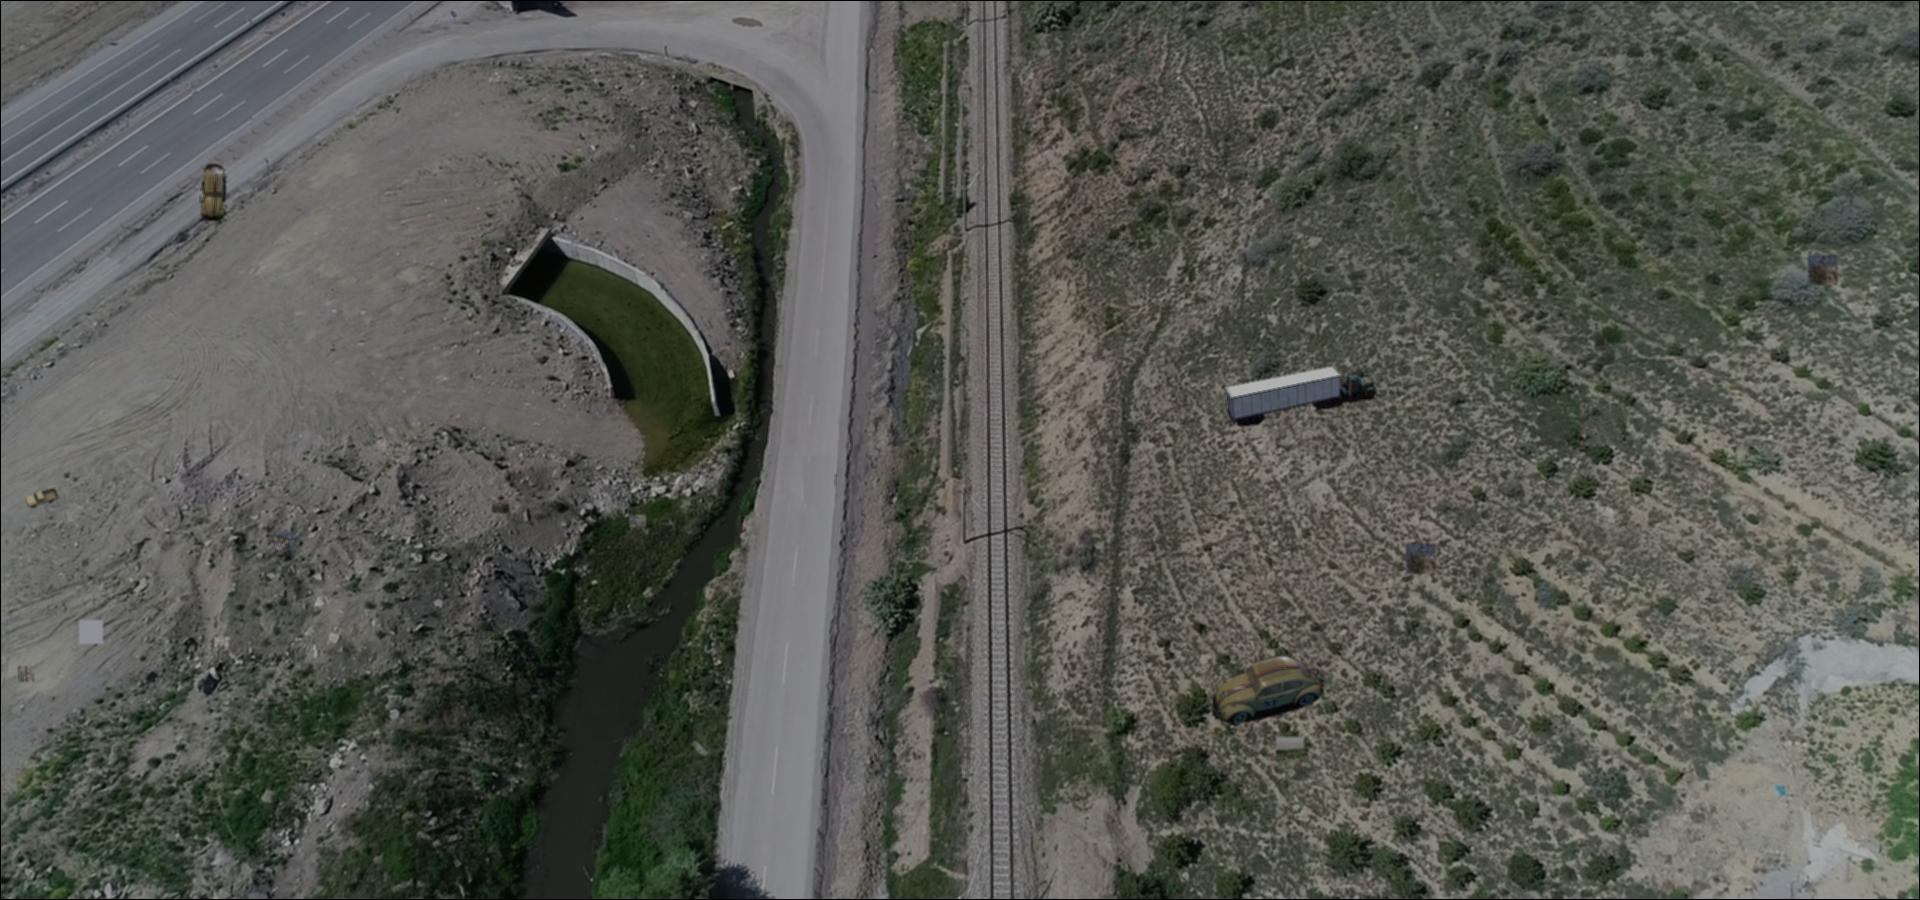arac: (1222, 364, 1379, 426), (1213, 651, 1324, 726), (200, 164, 227, 220), (24, 487, 59, 509)
